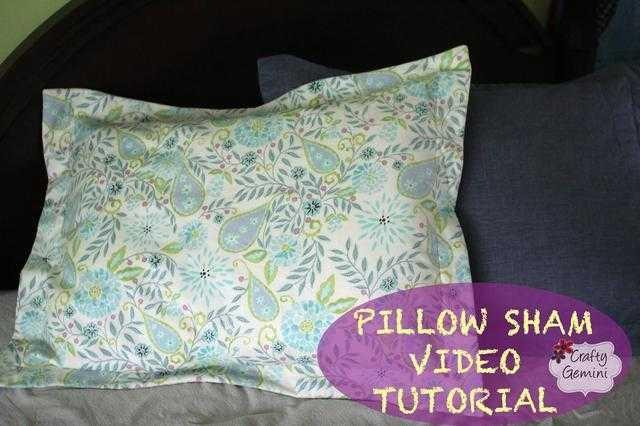pillow: (1, 43, 478, 400)
